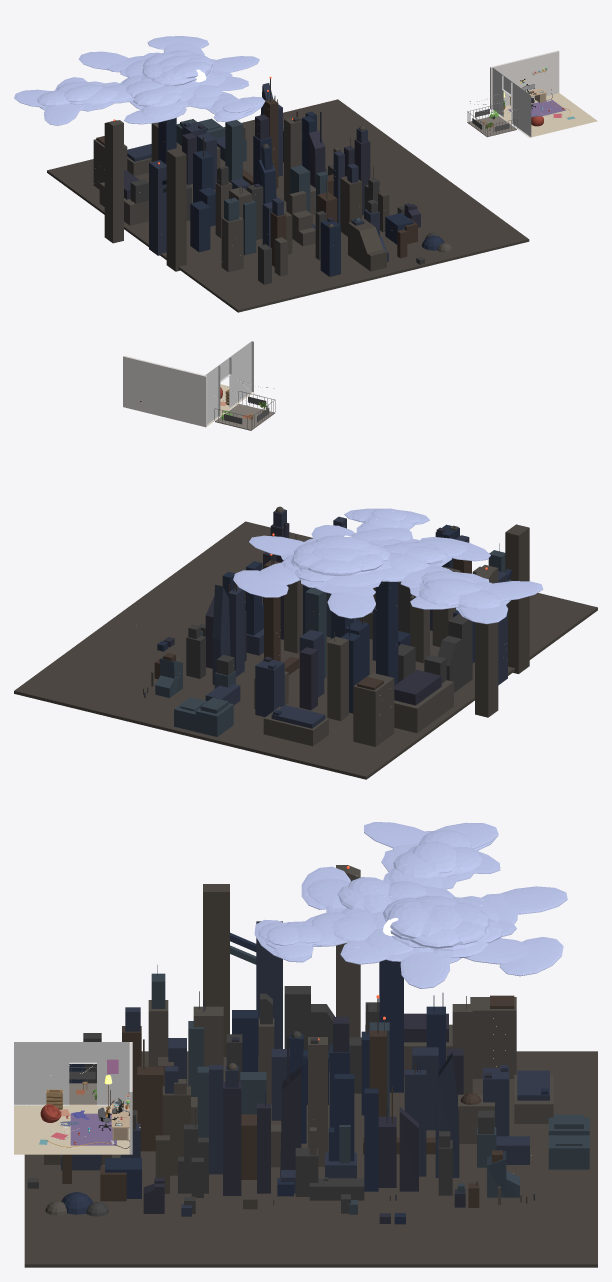
The model's file is room_world.glb.
3 views of the same model, one above another, from view 1: azimuth 30°, elevation 25°; view 2: azimuth 150°, elevation 25°; view 3: azimuth 270°, elevation 25° (orthographic). The views are drawn at different scales.
Visible parts, largest first — view 1: group678473692, CumulusClouds, group390779501, group282507775, BackWall, group1321258477, group403154158, Floor, group1327923439, group1920750356, group1275731101, group196946323 (+33 smaller); view 2: group678473692, CumulusClouds, BackWall, group390779501, group1660434511, group282507775, group1341121099, group1994980795, group166471606, group408127114, group1976860158, group611400264 (+22 smaller); view 3: group678473692, CumulusClouds, group390779501, Floor, SideWall_Front.001, group1660434511, group1341121099, group166471606, group1994980795, group196946323, group1937378850, group1668899561 (+51 smaller).
Boxes of the visible parts, <box> form: group678473692: <box>47,99,529,312</box>; CumulusClouds: <box>14,36,265,125</box>; group390779501: <box>166,148,186,271</box>; group282507775: <box>104,120,123,243</box>; BackWall: <box>490,50,559,109</box>; group1321258477: <box>149,160,166,255</box>; group403154158: <box>348,219,386,271</box>; Floor: <box>493,93,597,137</box>; group1327923439: <box>221,216,243,272</box>; group1920750356: <box>286,191,315,246</box>; group1275731101: <box>320,220,340,276</box>; group196946323: <box>284,116,301,201</box>; group678473692: <box>14,521,597,779</box>; CumulusClouds: <box>233,508,543,624</box>; BackWall: <box>123,355,207,427</box>; group390779501: <box>505,524,529,673</box>; group1660434511: <box>353,672,394,746</box>; group282507775: <box>475,565,498,717</box>; group1341121099: <box>376,581,398,685</box>; group1994980795: <box>437,613,472,692</box>; group166471606: <box>174,697,233,736</box>; group408127114: <box>327,636,348,721</box>; group1976860158: <box>394,680,453,732</box>; group611400264: <box>255,659,284,716</box>; group678473692: <box>24,1051,597,1267</box>; CumulusClouds: <box>254,822,567,988</box>; group390779501: <box>203,884,229,1056</box>; Floor: <box>14,1104,129,1154</box>; SideWall_Front.001: <box>14,1042,69,1105</box>; group1660434511: <box>470,997,516,1078</box>; group1341121099: <box>379,960,403,1092</box>; group166471606: <box>548,1114,589,1169</box>; group1994980795: <box>284,986,334,1071</box>; group196946323: <box>308,1037,327,1166</box>; group1937378850: <box>223,1081,241,1195</box>; group1668899561: <box>137,1066,163,1151</box>.
Size of the model in its own units: 37.48 by 16.58 by 29.56.
Materials: 187 (6 with a texture image).
